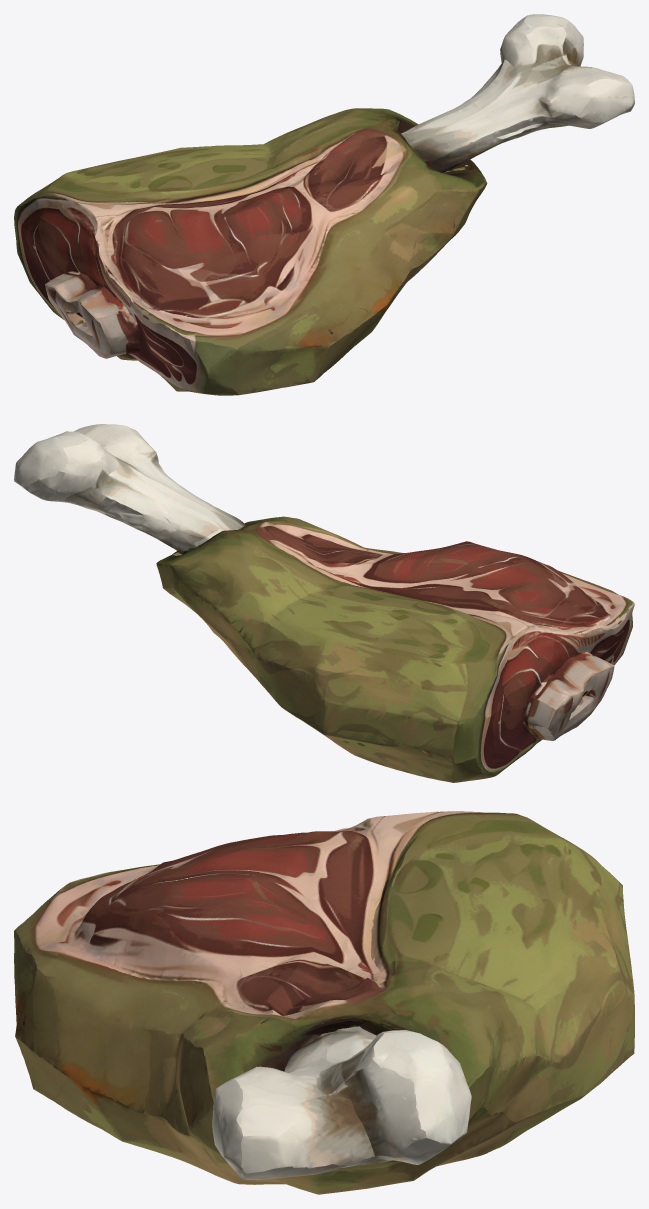
Rendered from item_meat.glb.
3 renders of one model, top to bottom at view 1: azimuth 30°, elevation 25°; view 2: azimuth 150°, elevation 25°; view 3: azimuth 270°, elevation 25°, orthographic. The views are drawn at different scales.
Parts seen in each view (by area): view 1: item_meat; view 2: item_meat; view 3: item_meat.
Part boxes in pixels (x1,y1,x2,y2): item_meat: (14, 14, 634, 395); item_meat: (14, 424, 634, 782); item_meat: (14, 811, 634, 1194).
Bounding box in the file's own units: 0.25 × 0.0973 × 0.1524.
Materials: 1 (1 with a texture image).
